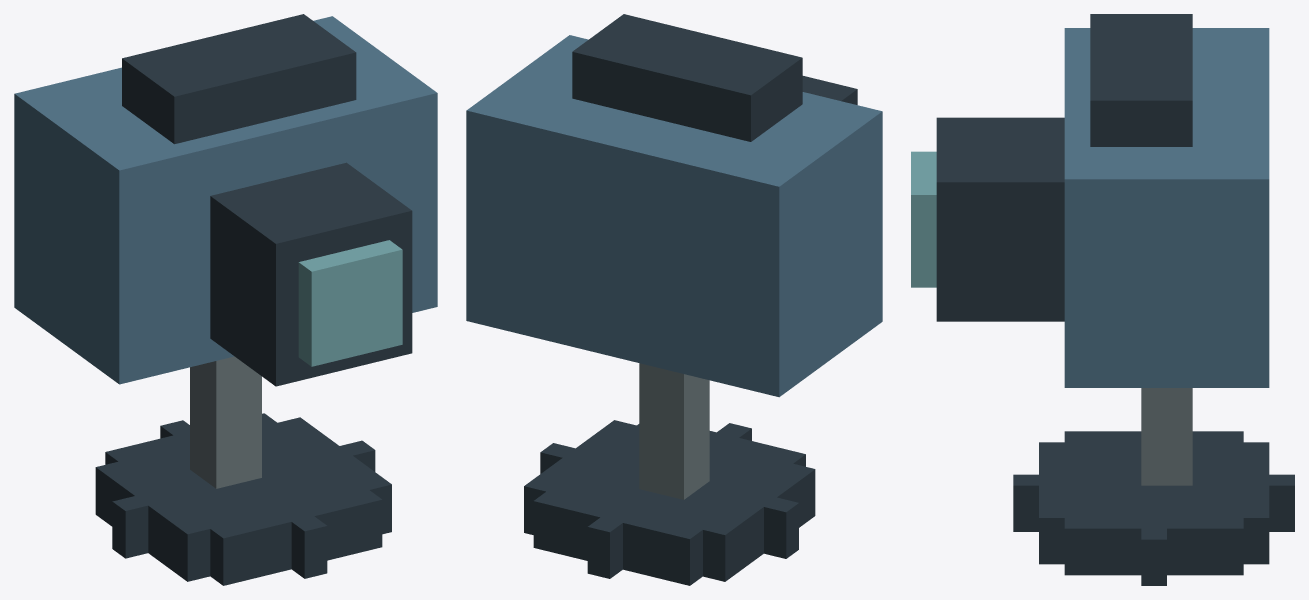
Rendered from security-06.glb.
3 renders of one model, left to right at view 1: azimuth 30°, elevation 25°; view 2: azimuth 150°, elevation 25°; view 3: azimuth 270°, elevation 25°, orthographic. The views are drawn at different scales.
Visible parts, largest first — view 1: Surveillance camera; view 2: Surveillance camera; view 3: Surveillance camera.
Part boxes in pixels (x1=…): Surveillance camera: x1=14, y1=14, x2=437, y2=585; Surveillance camera: x1=466, y1=14, x2=882, y2=585; Surveillance camera: x1=911, y1=14, x2=1294, y2=585.
Size of the model in its own units: 1.12 by 1.6 by 1.2.
